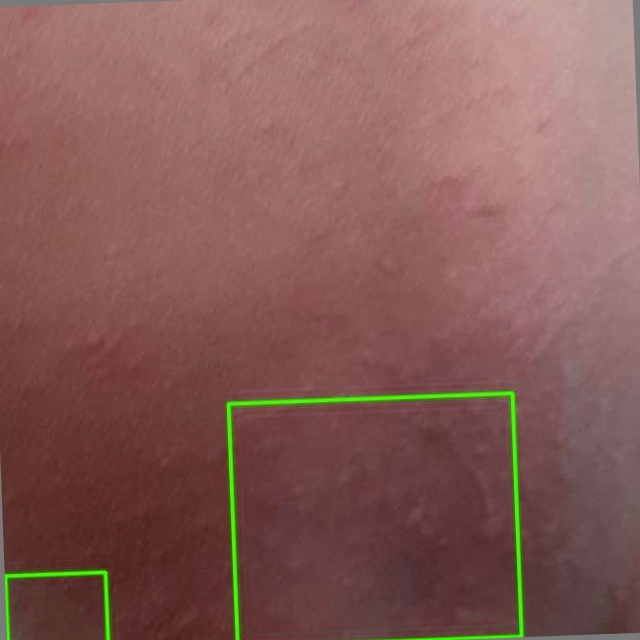Atopic Dermatitis: (228, 393, 521, 639), (5, 572, 108, 639)
